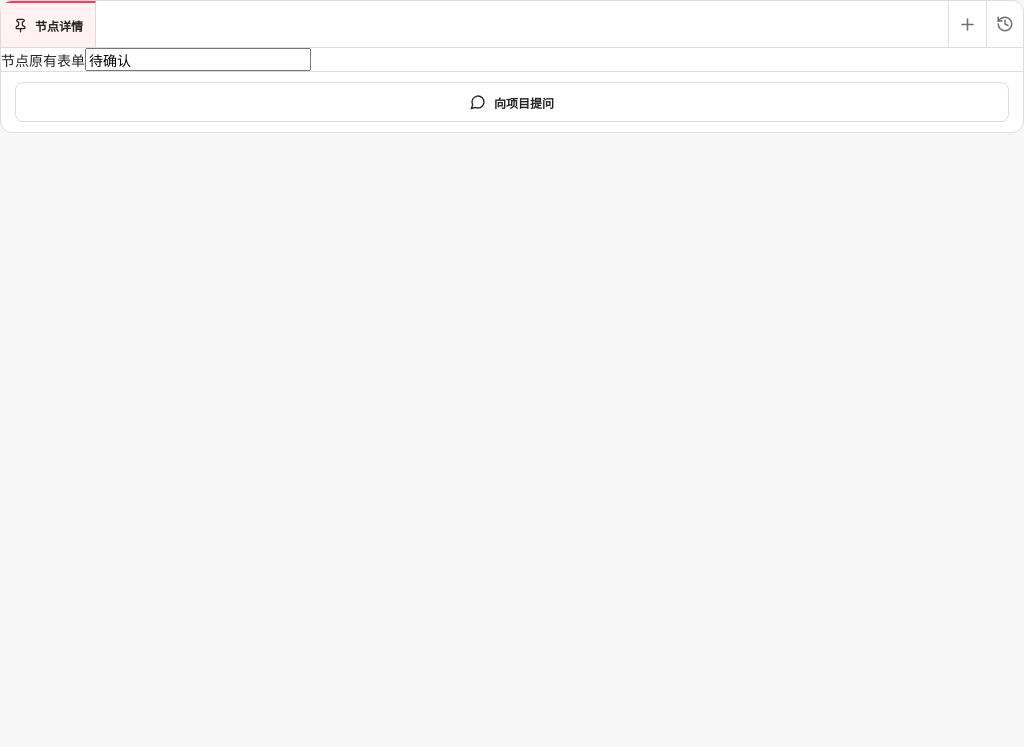
Test case: workbench tabs and independent conversation interaction › renders legacy and declared Markdown while keeping plain text, unknown formats and unsafe content readable
This screenshot has width=1024, height=747.
Click the button named "新建对话" at (967,24), box [948, 1, 986, 47]
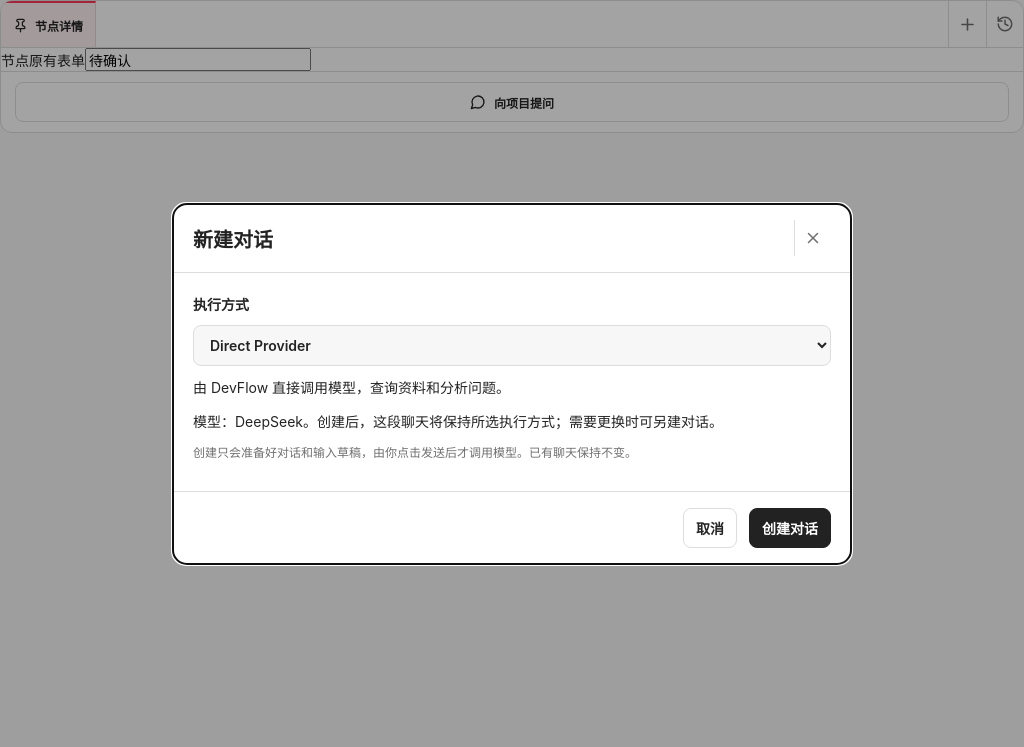
Click the button "创建对话" at (790,528), box [749, 508, 831, 548]
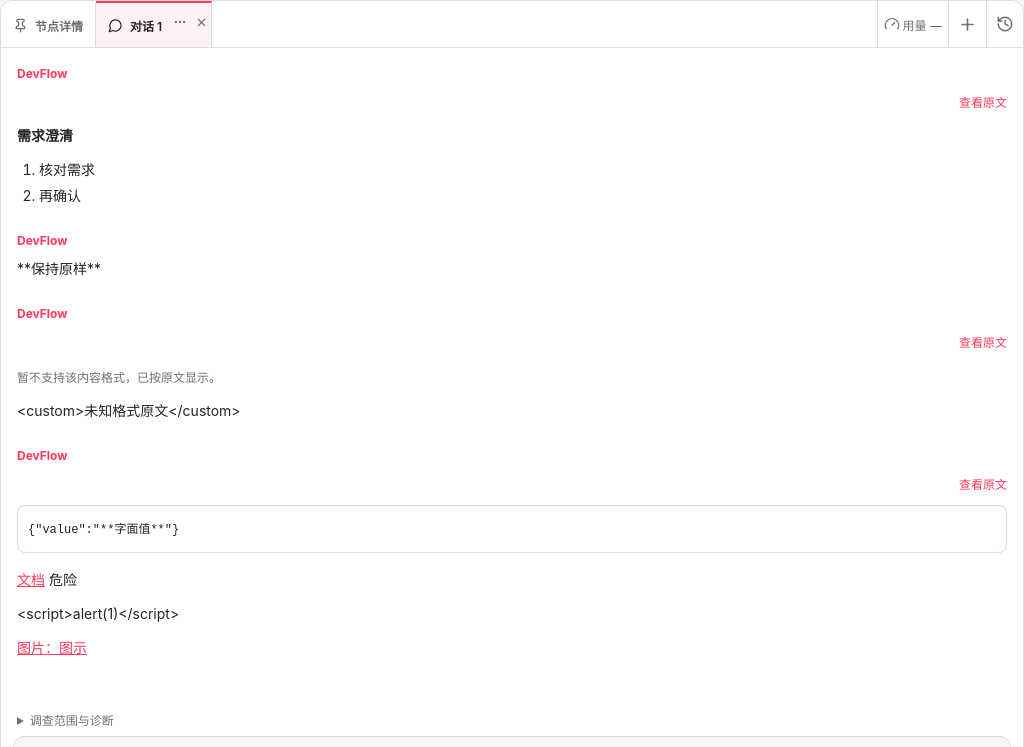
Now the tab "对话 1" is shown, box [96, 1, 212, 47]
Now the list shows "核对需求", box [39, 161, 95, 178]
Now the text "**保持原样**" is shown, box [17, 260, 101, 277]
Click the 1st button "查看原文" at (983,103), box [959, 89, 1007, 117]
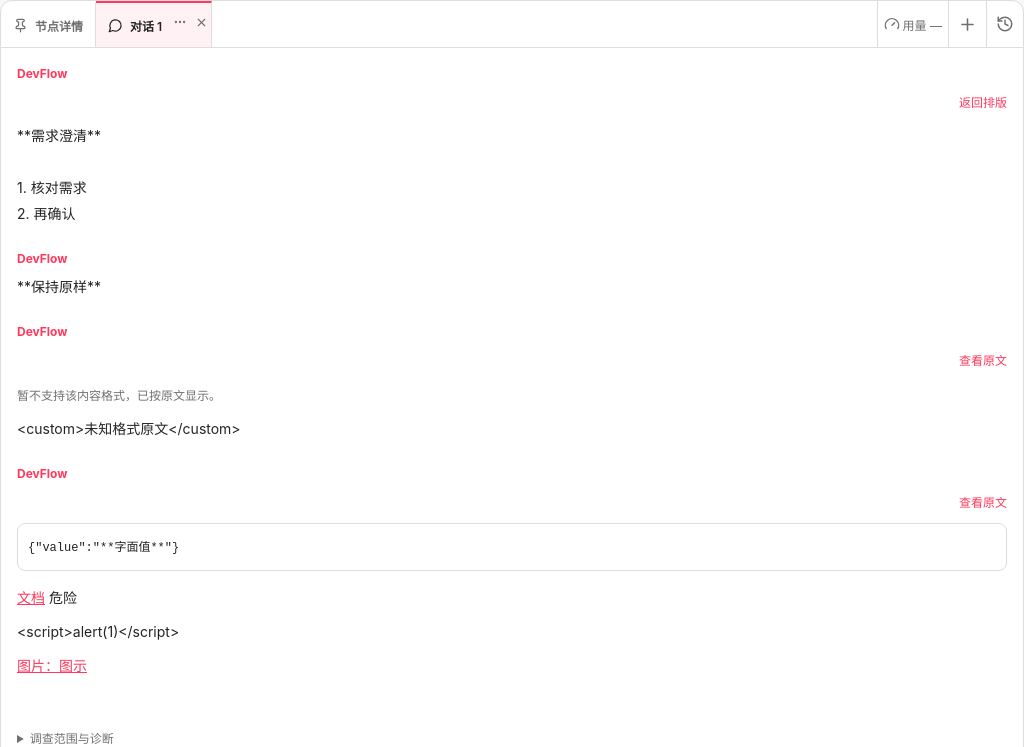
Now the text "**需求澄清** 1. 核对需求 2. 再确认" is shown, box [17, 127, 101, 222]
